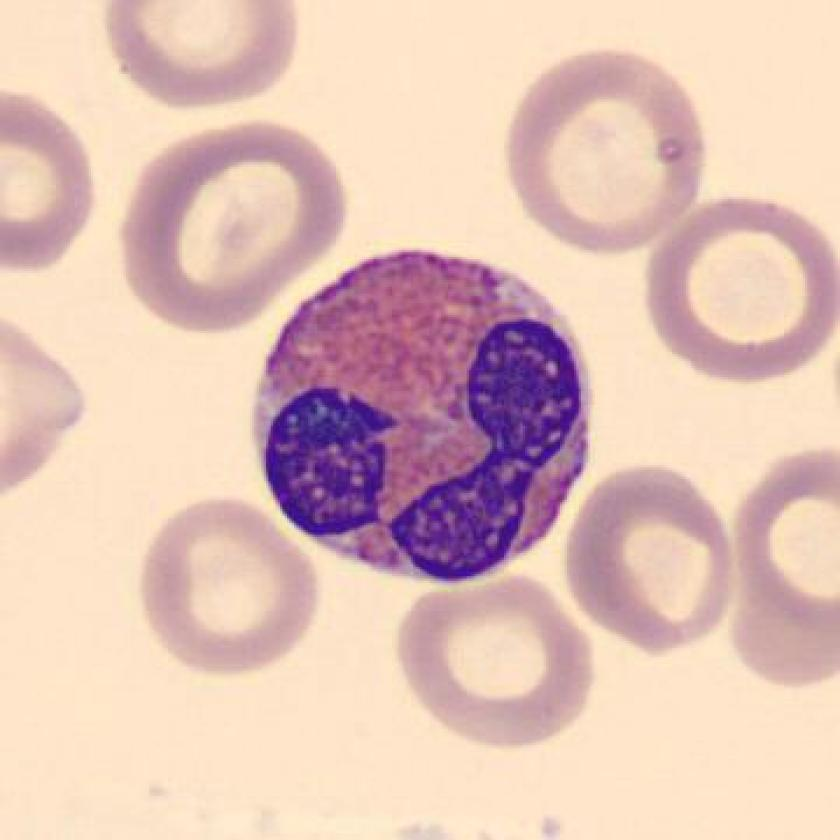eosinophil: (241, 237, 608, 596)
